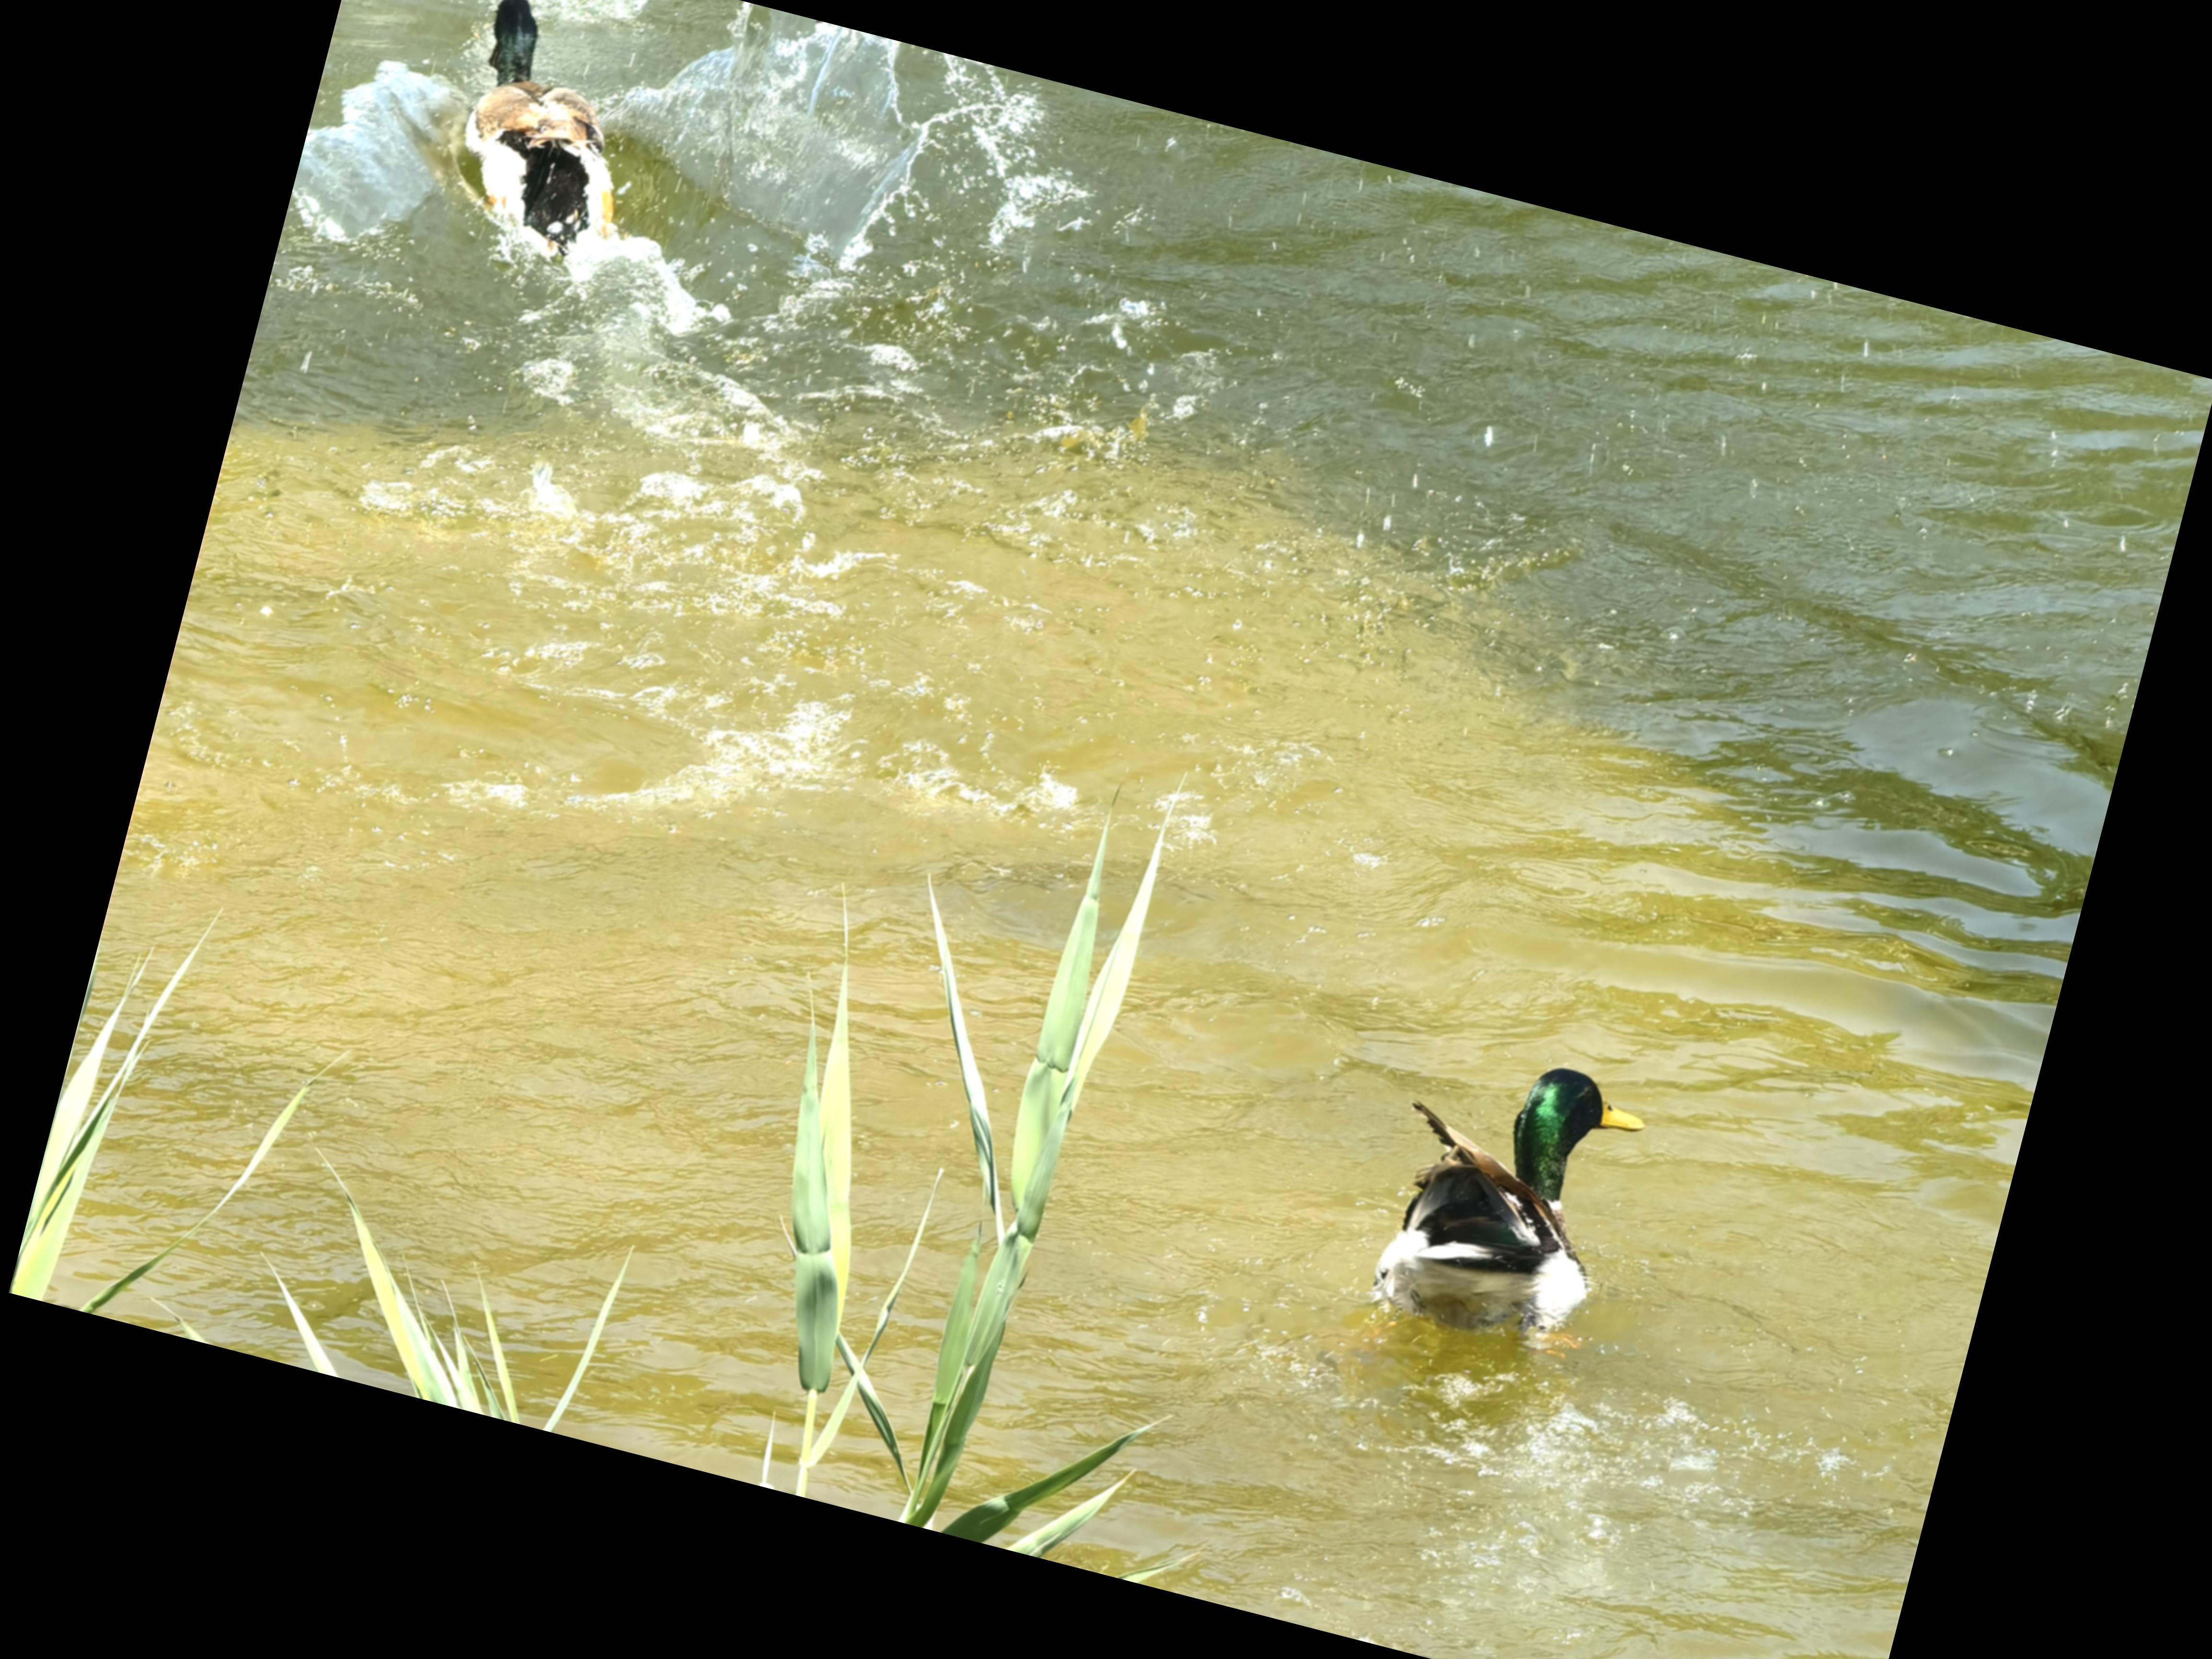duck: (1305, 988, 1710, 1412), (392, 0, 695, 307)
